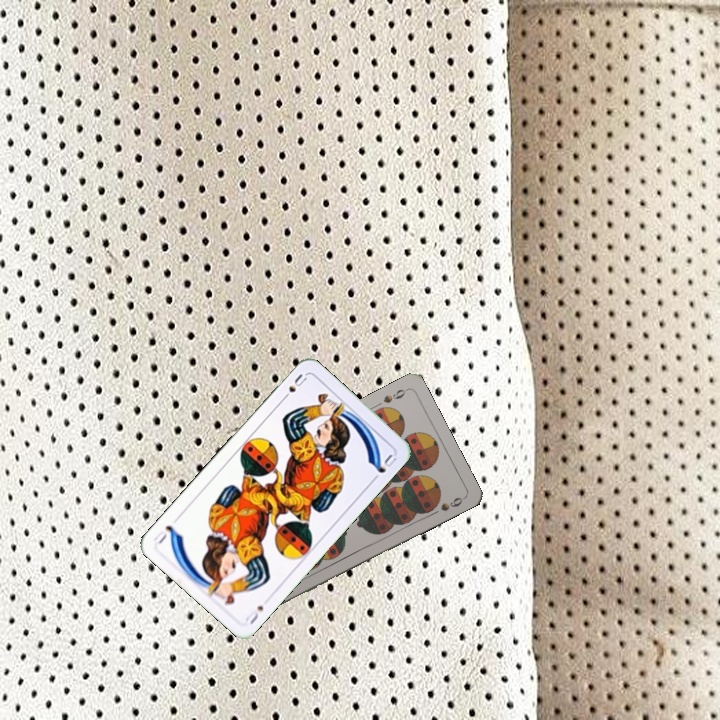S9: (379, 384, 410, 406)
SU: (278, 370, 310, 404), (241, 601, 266, 627)
